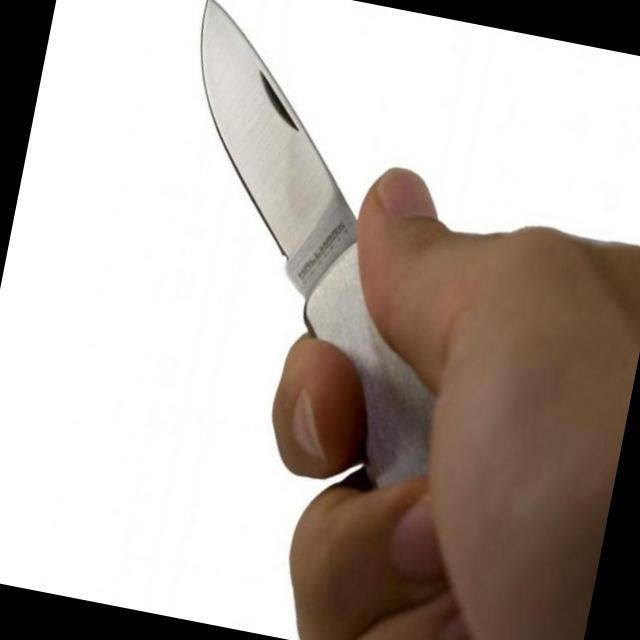Knife: (102, 0, 529, 527)
